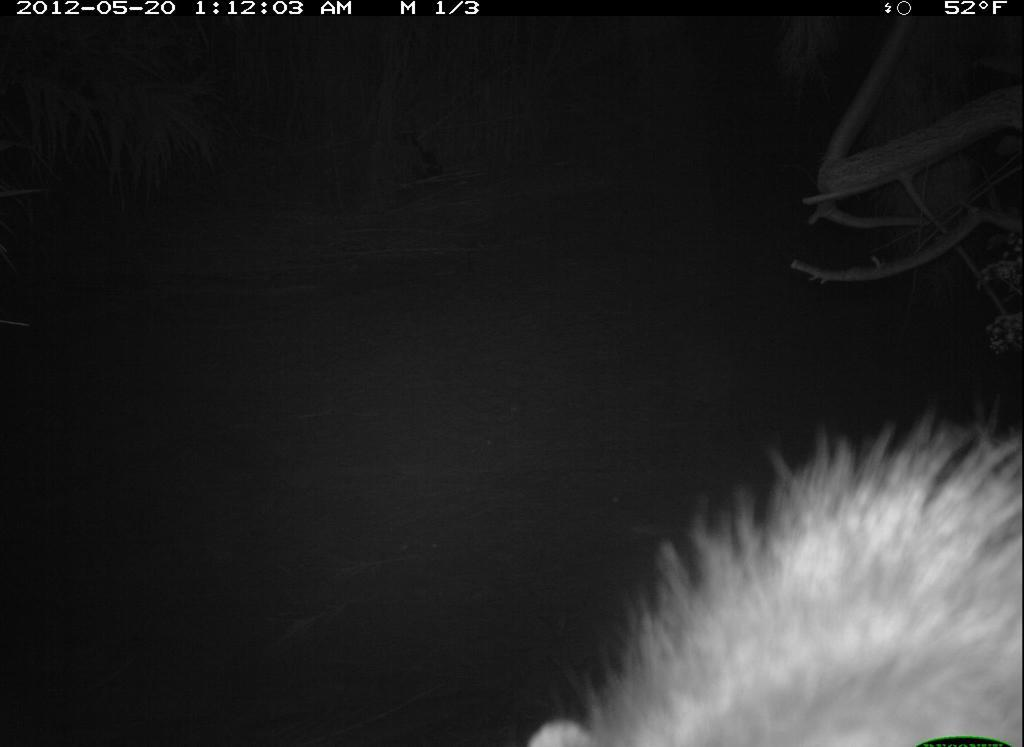raccoon: (525, 414, 1022, 747)
